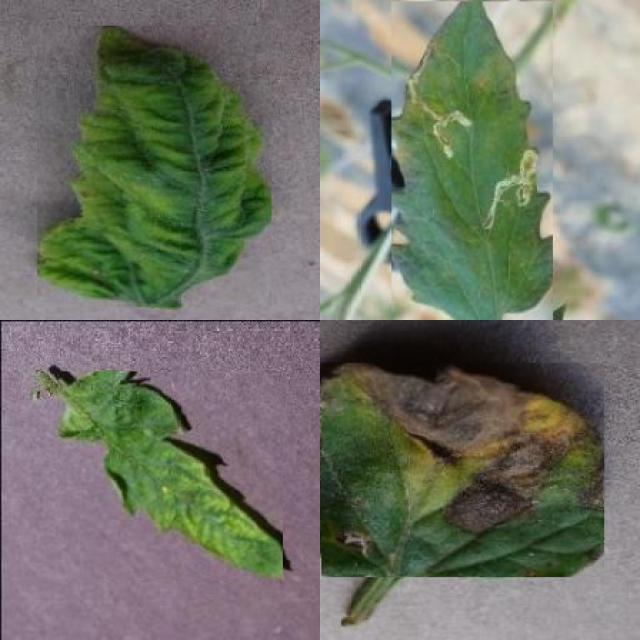Early Blight: (322, 362, 604, 578)
Leaf Miner: (391, 1, 553, 320)
Mosaic Virus: (57, 372, 283, 578)
Yellow Leaf Curl Virus: (37, 26, 272, 307)
